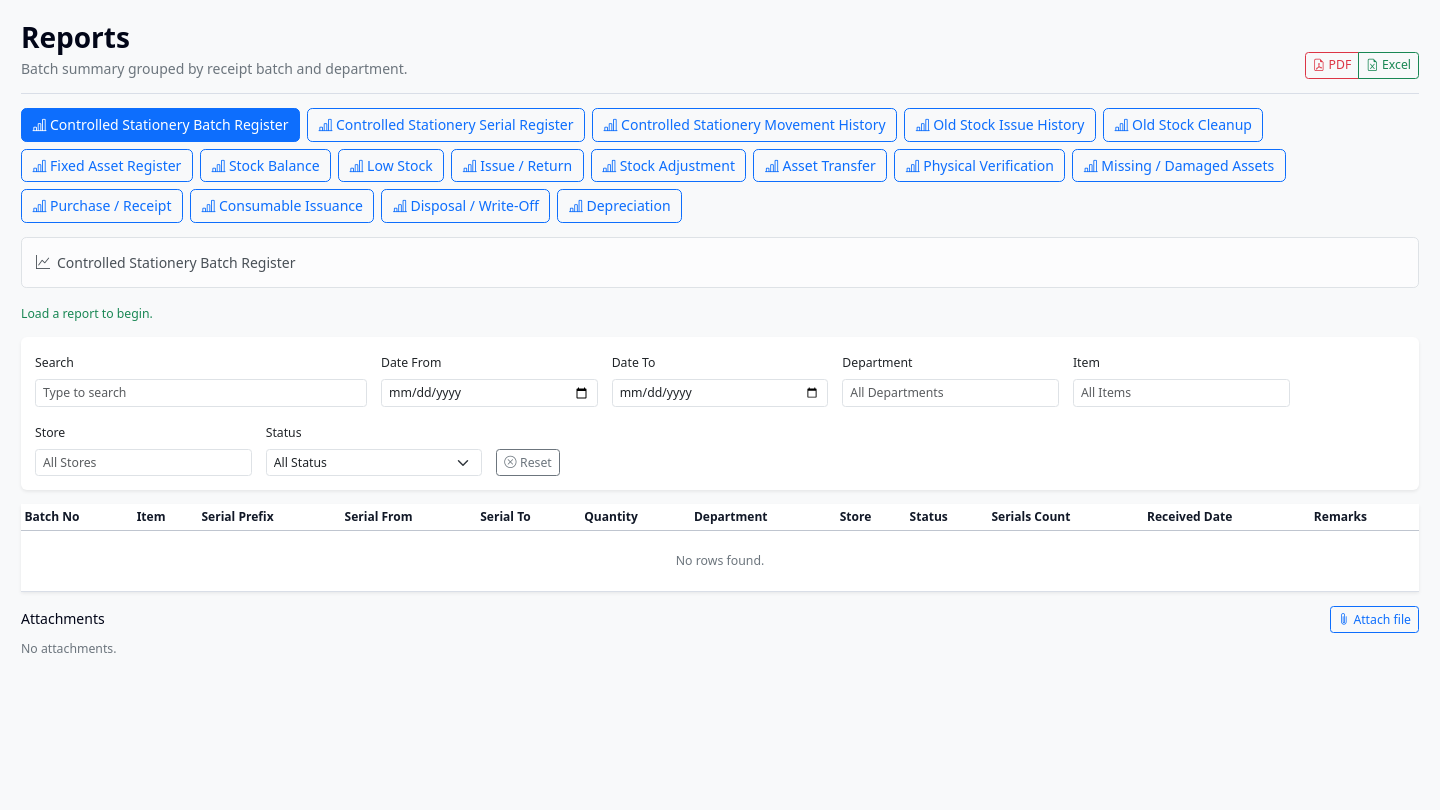
Test case: ReportsPage export and filter flow › requires token before exporting excel
Expected: the text "Load a report to begin." is shown, [21, 305, 153, 322]
Click the button "Excel" at (1389, 65), box [1358, 52, 1419, 79]
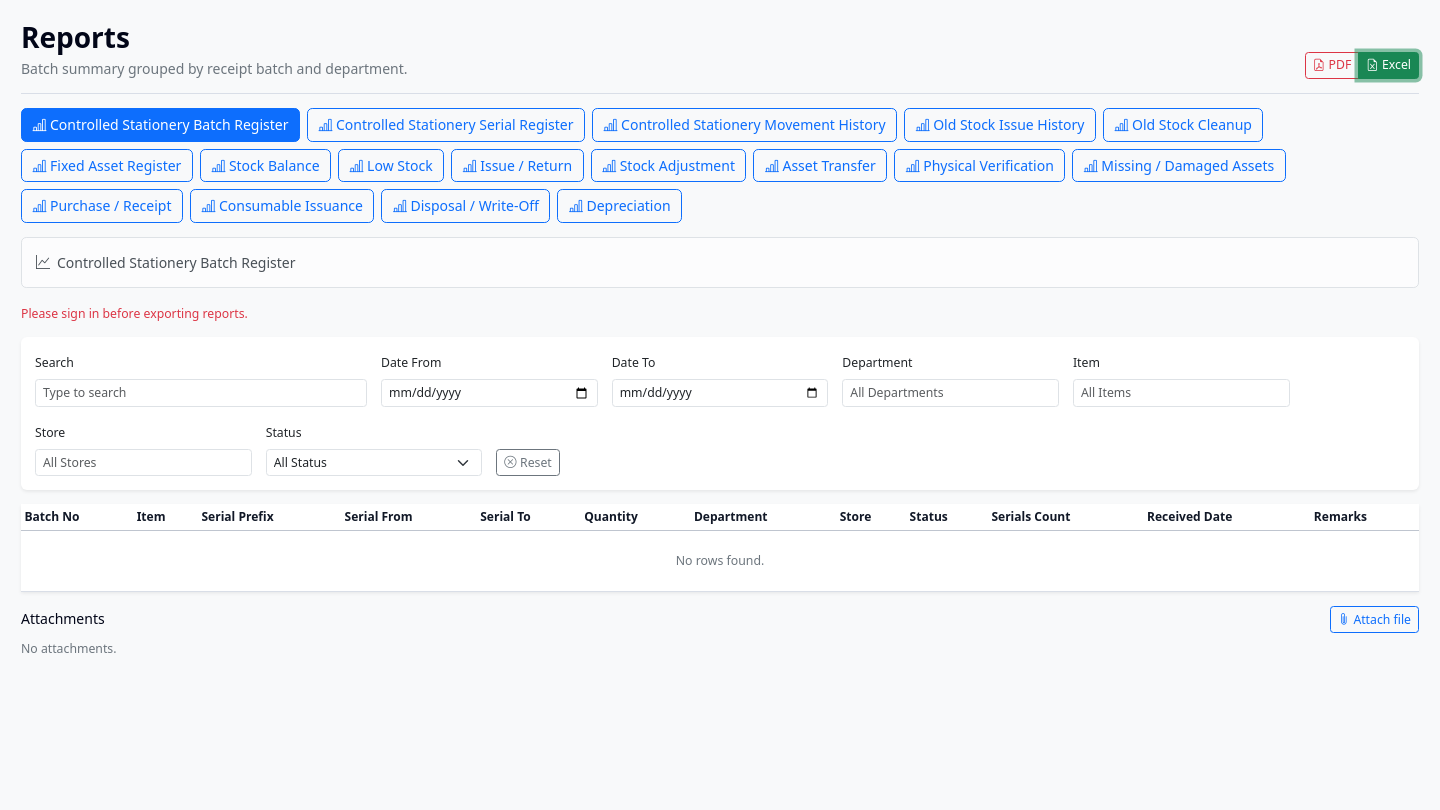
Now the text "Please sign in before exporting reports." is shown, box [21, 305, 248, 322]
